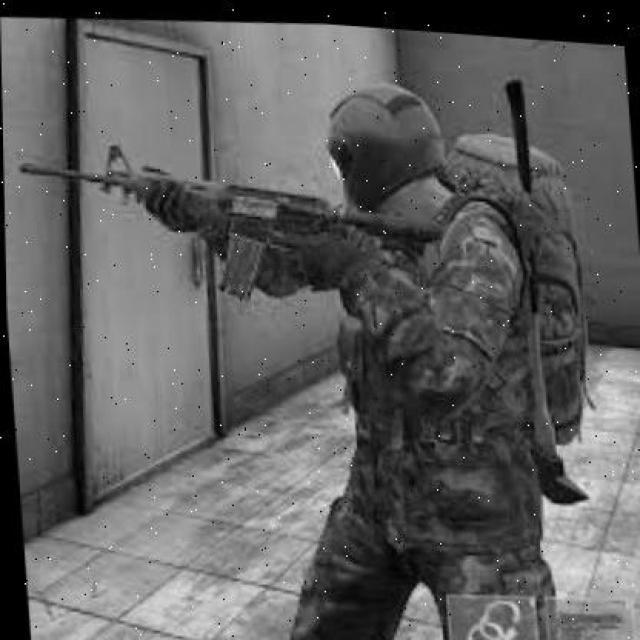weapon: (20, 147, 446, 306)
